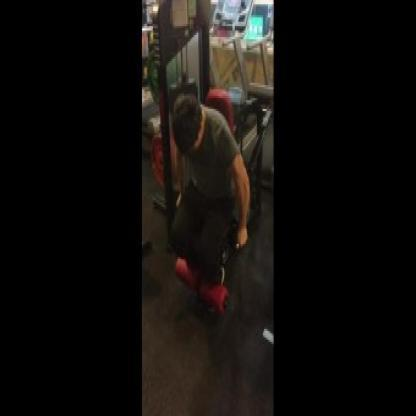seated dip machine: (147, 1, 287, 331)
